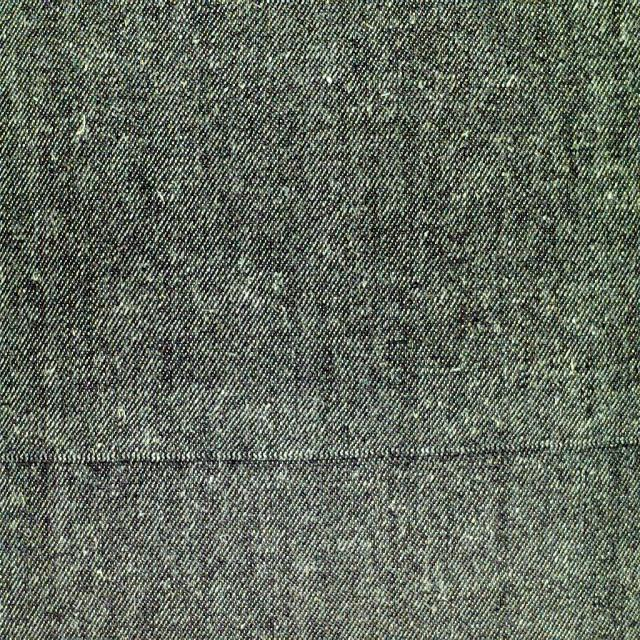Line: (0, 437, 640, 468)
